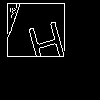H: (25, 20, 71, 74)
